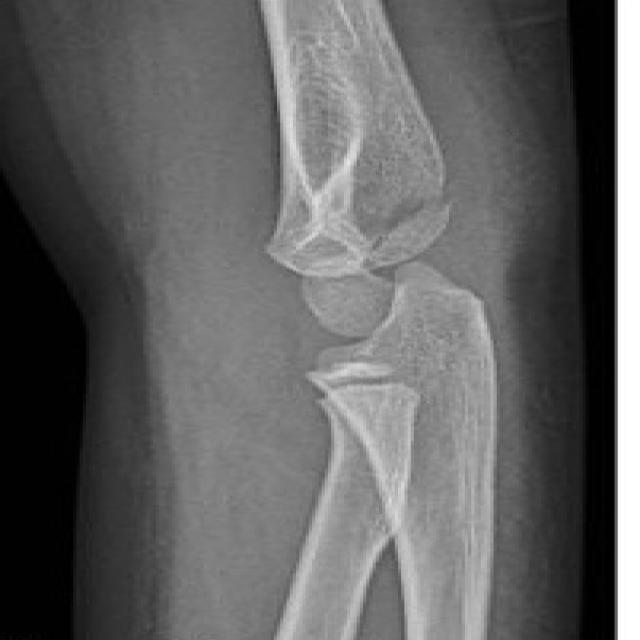Oblique: (206, 170, 512, 411)
